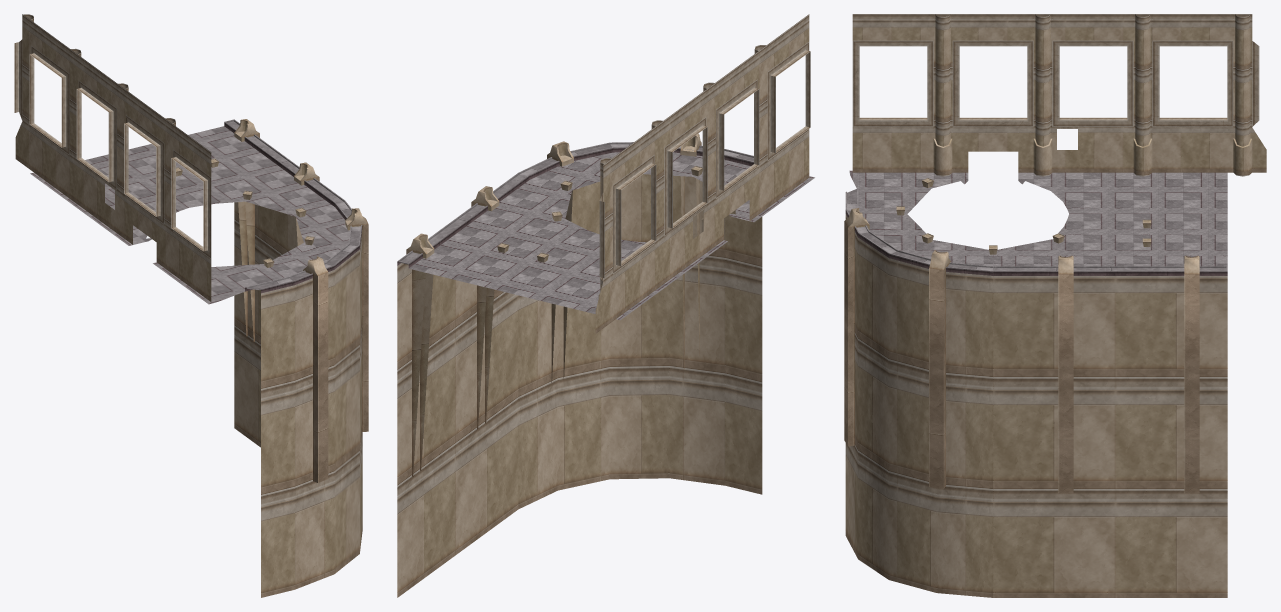
The model's file is Cor1_bldg_walk_young.fbx.
The picture shows the model from 3 angles, left to right: view 1: azimuth 30°, elevation 25°; view 2: azimuth 150°, elevation 25°; view 3: azimuth 270°, elevation 25°; orthographic projection. The views are drawn at different scales.
Parts seen in each view (by area): view 1: cor1_bldg_walkway_youngling, polymsh_detached128, Youngling_Room_walk_way1, polymsh1374, trim; view 2: cor1_bldg_walkway_youngling, polymsh_detached128, Youngling_Room_walk_way1, polymsh1374, trim; view 3: cor1_bldg_walkway_youngling, polymsh_detached128, Youngling_Room_walk_way1, polymsh1374, trim.
Boxes of the visible parts, bbox=[...] form: cor1_bldg_walkway_youngling: bbox=[234, 202, 362, 597]; polymsh_detached128: bbox=[14, 14, 211, 301]; Youngling_Room_walk_way1: bbox=[30, 126, 349, 304]; polymsh1374: bbox=[234, 119, 368, 482]; trim: bbox=[224, 119, 362, 293]; cor1_bldg_walkway_youngling: bbox=[397, 174, 762, 597]; polymsh_detached128: bbox=[595, 14, 810, 333]; Youngling_Room_walk_way1: bbox=[409, 152, 814, 320]; polymsh1374: bbox=[406, 133, 701, 476]; trim: bbox=[397, 142, 753, 267]; cor1_bldg_walkway_youngling: bbox=[845, 214, 1227, 597]; polymsh_detached128: bbox=[852, 14, 1266, 176]; Youngling_Room_walk_way1: bbox=[849, 170, 1227, 266]; polymsh1374: bbox=[844, 208, 1199, 493]; trim: bbox=[845, 187, 1227, 275].
Size of what is drawn, in the model's own units: 4105 by 8483 by 6761.
